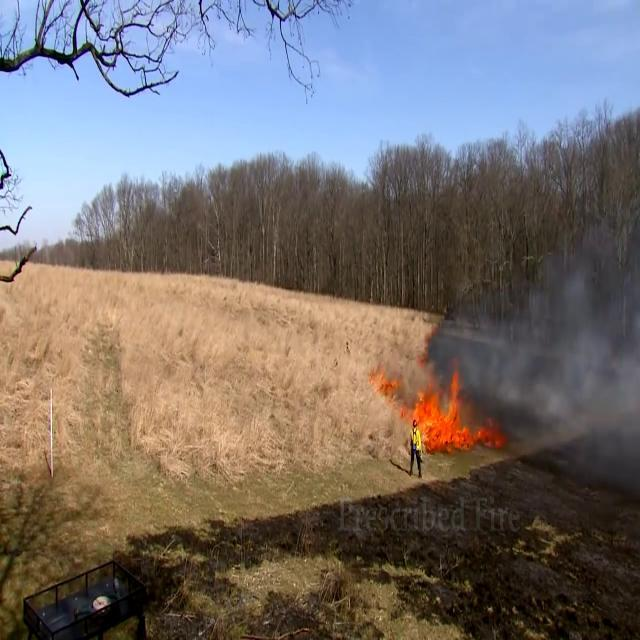Fire: (366, 356, 508, 452)
Smoke: (514, 245, 640, 452)
